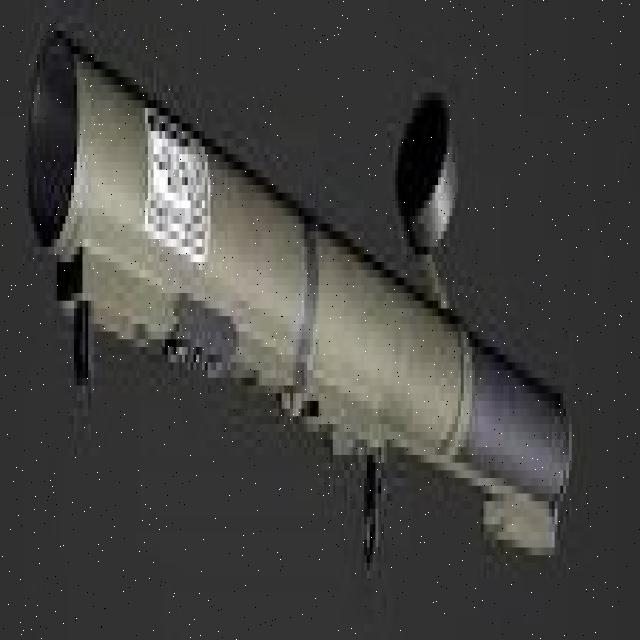bazooka: (19, 13, 580, 596)
